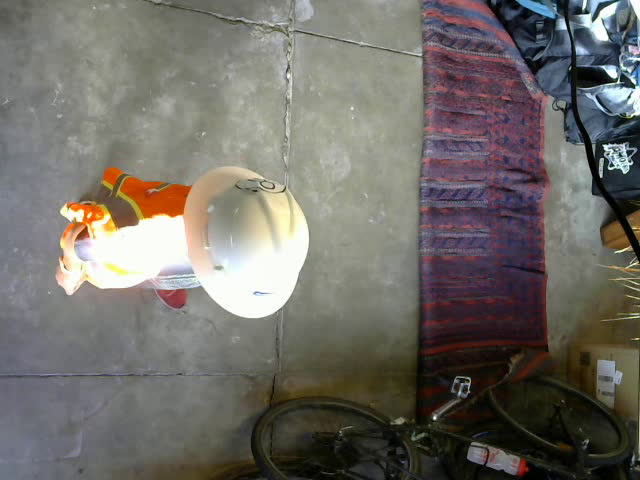eight: (234, 177, 288, 195)
